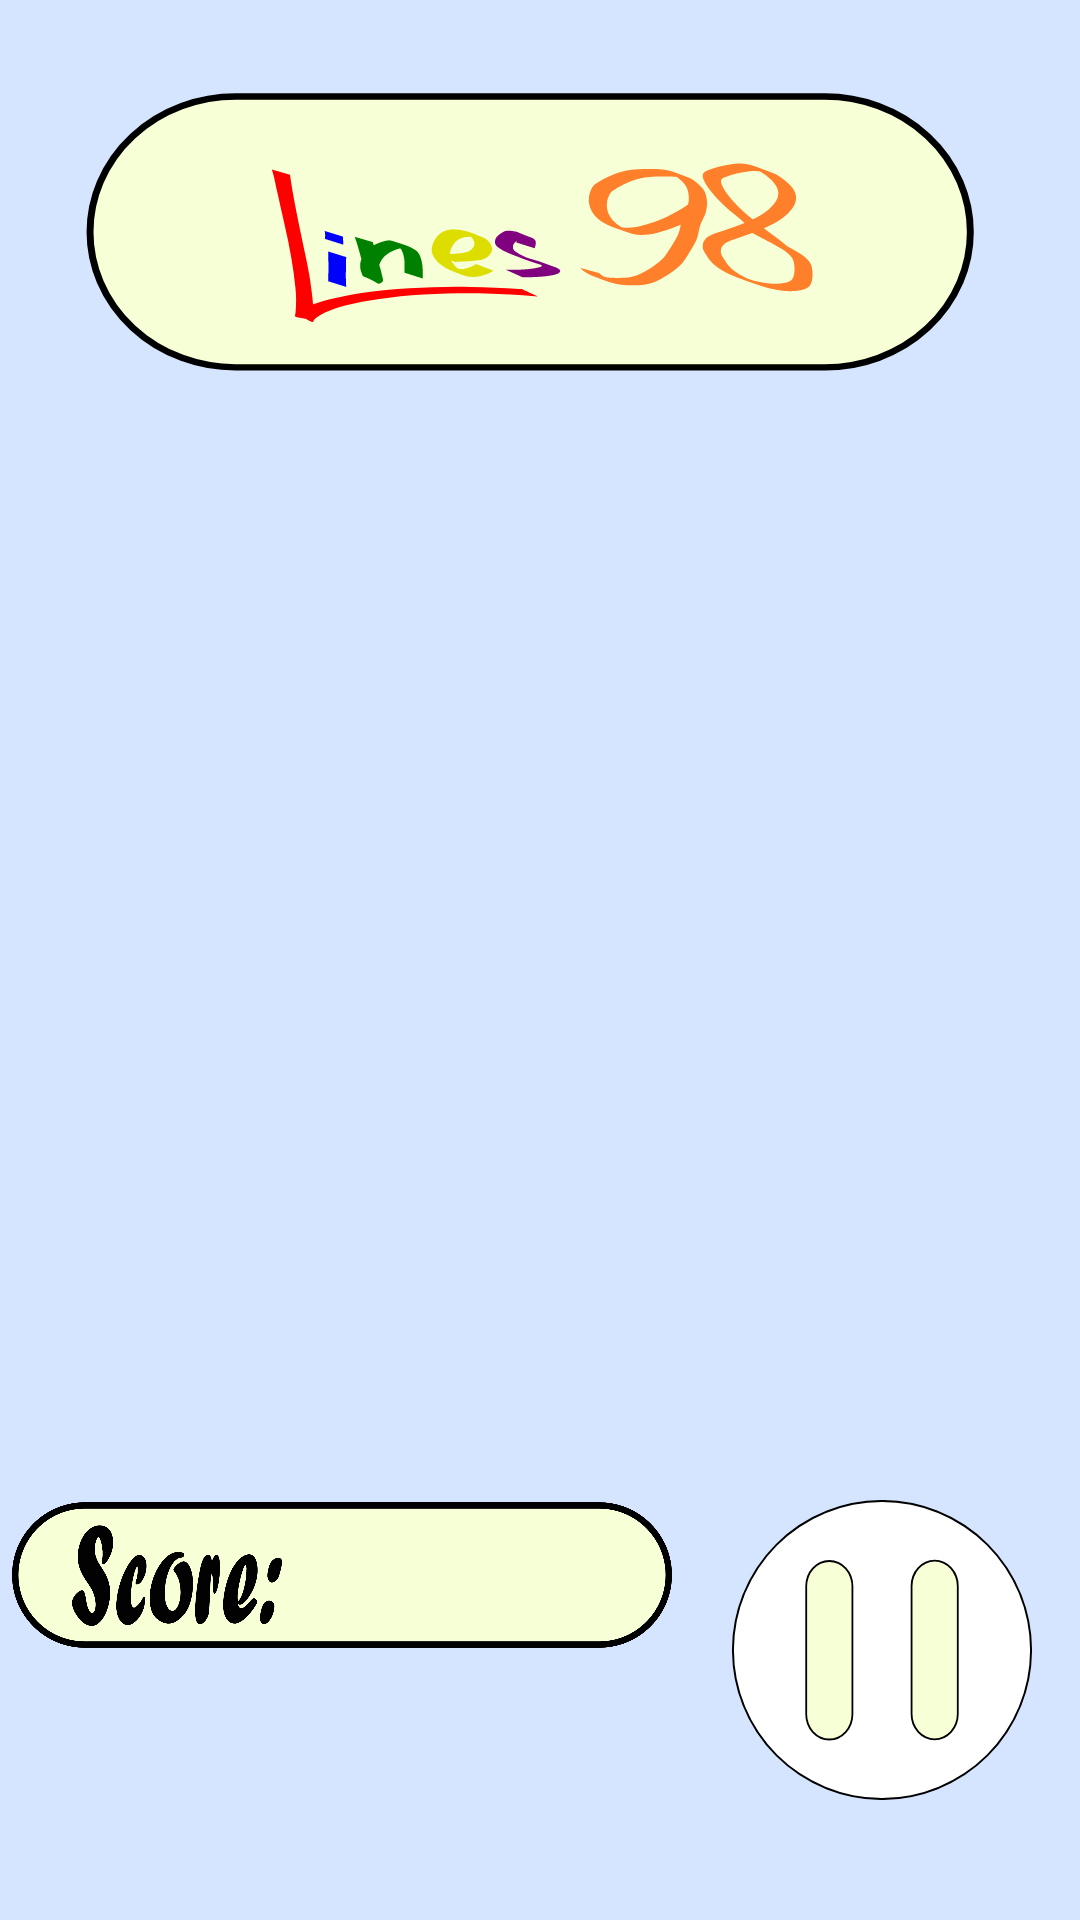

Screen size 1080×1920. Icon name, then its center in pixels as [x,y]:
pause: [882,1650]
